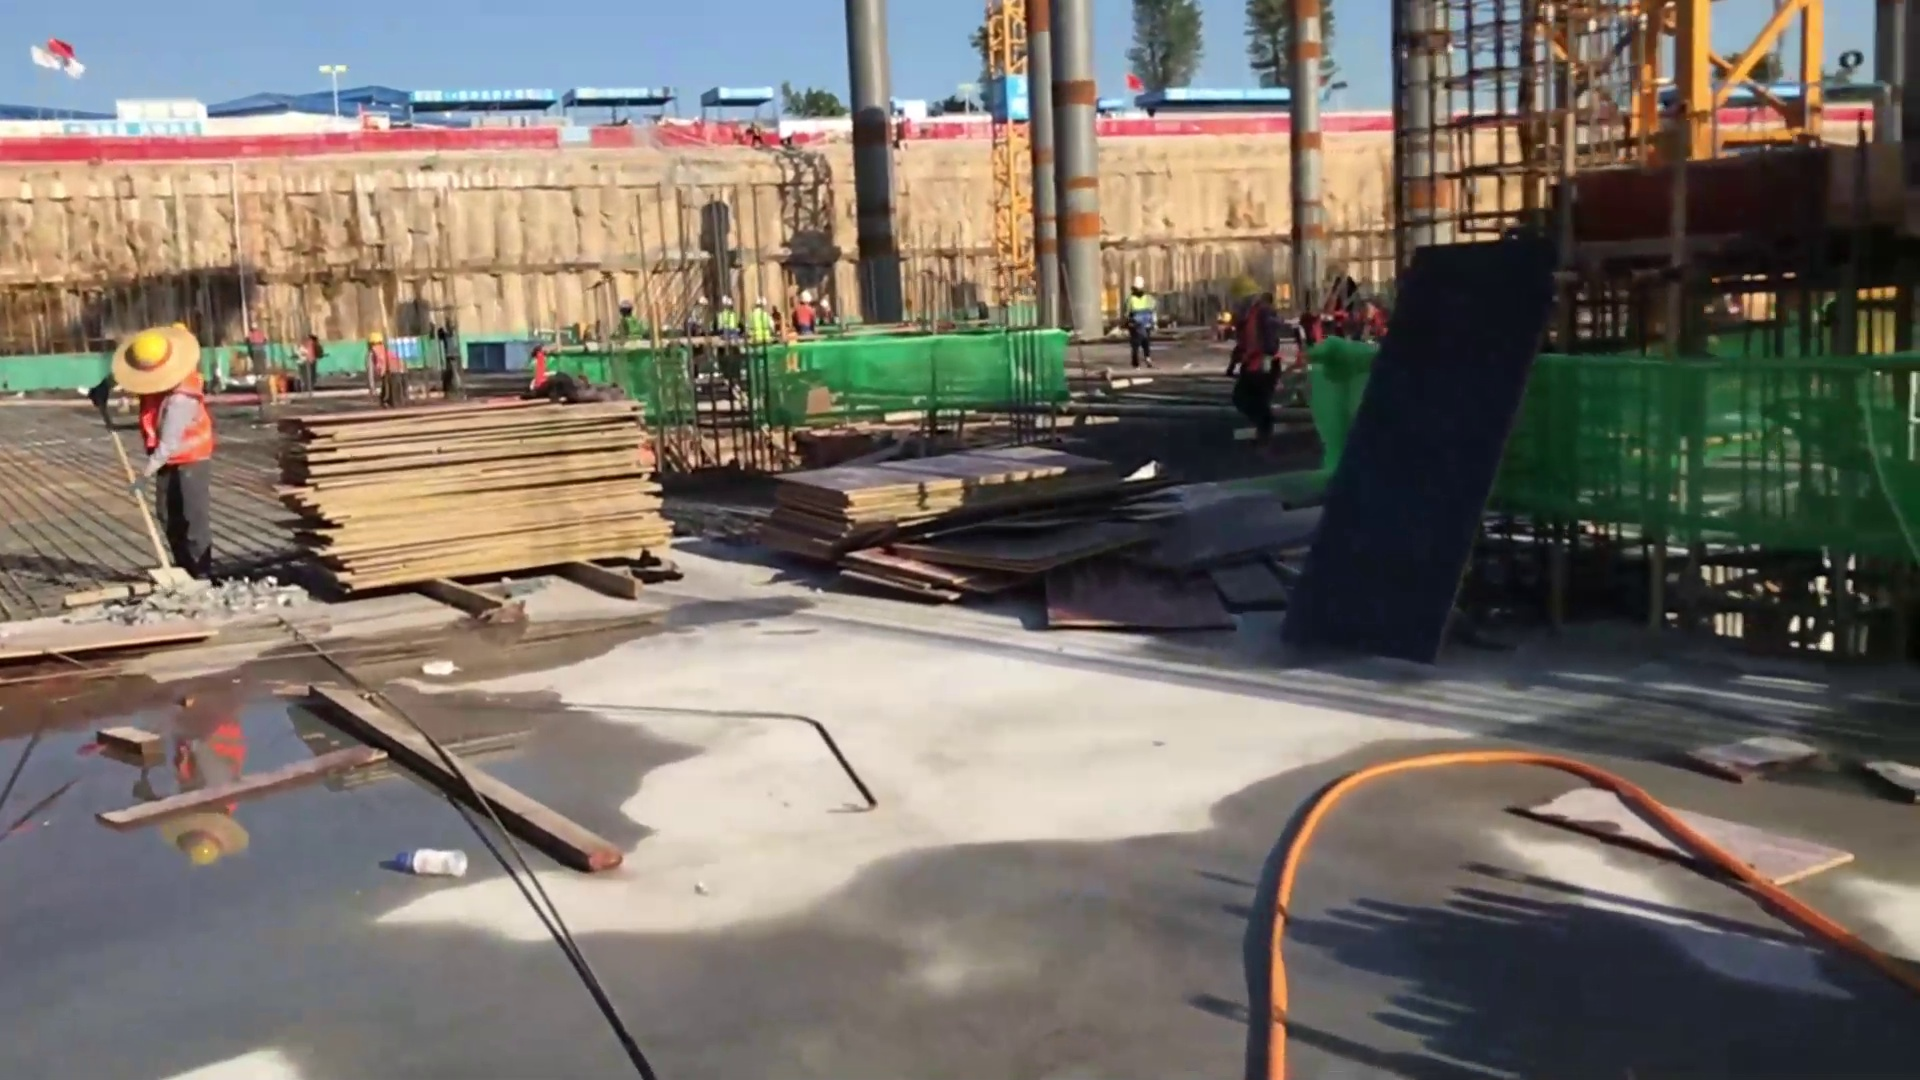helmet: (132, 335, 168, 367)
person: (115, 324, 219, 576), (1221, 273, 1288, 433), (355, 327, 408, 407), (1124, 276, 1154, 365), (238, 316, 265, 374), (788, 288, 813, 326), (686, 291, 706, 333), (717, 293, 736, 337), (746, 295, 767, 334)
vest: (134, 385, 216, 471)
